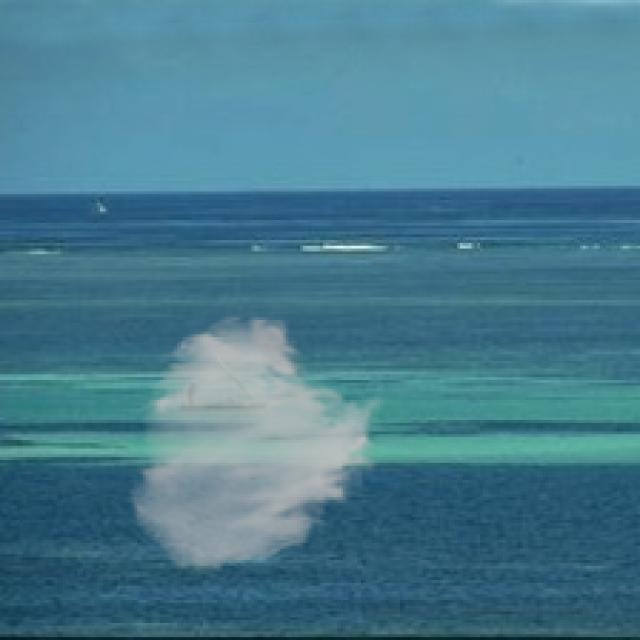smoke: (125, 312, 388, 574)
